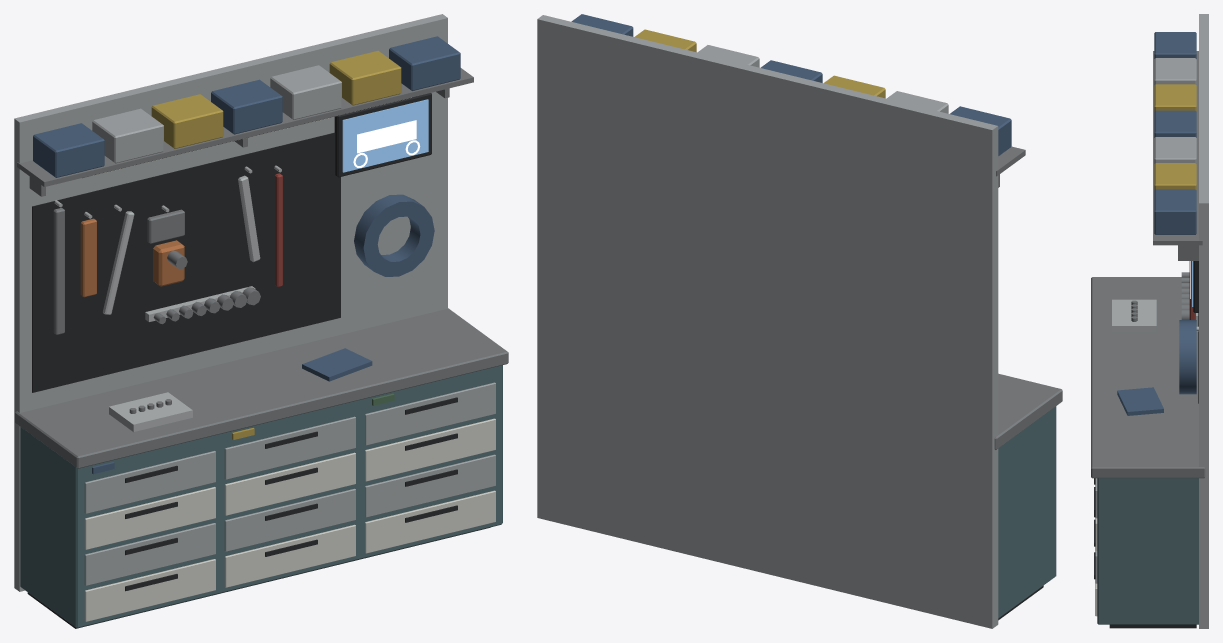
The model's file is astro_rover_work_station.fbx.
The picture shows the model from 3 angles, left to right: view 1: azimuth 30°, elevation 25°; view 2: azimuth 150°, elevation 25°; view 3: azimuth 270°, elevation 25°; orthographic projection. The views are drawn at different scales.
Parts seen in each view (by area): view 1: RoverWorkStation_Body; view 2: RoverWorkStation_Body; view 3: RoverWorkStation_Body.
Boxes of the visible parts, x1=… form: RoverWorkStation_Body: x1=14, y1=14, x2=508, y2=628; RoverWorkStation_Body: x1=537, y1=14, x2=1062, y2=628; RoverWorkStation_Body: x1=1091, y1=14, x2=1208, y2=628.
Bounding box in the file's own units: 364 × 380 × 95.
